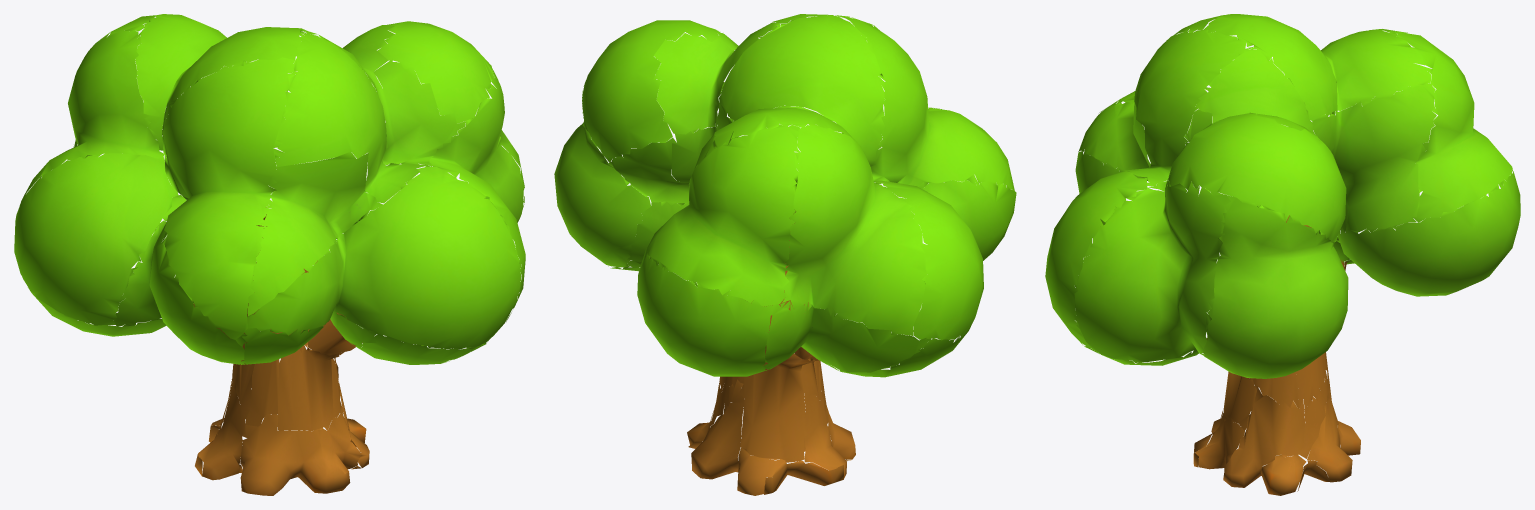
Rendered from baum_gruen_2.glb.
The picture shows the model from 3 angles, left to right: view 1: azimuth 30°, elevation 25°; view 2: azimuth 150°, elevation 25°; view 3: azimuth 270°, elevation 25°; orthographic projection. The views are drawn at different scales.
Parts seen in each view (by area): view 1: tripo_node_cad496b0-2a80-4168-8aae-92294c7d5e97; view 2: tripo_node_cad496b0-2a80-4168-8aae-92294c7d5e97; view 3: tripo_node_cad496b0-2a80-4168-8aae-92294c7d5e97.
Boxes of the visible parts, x1,y1,x2,y2 form: tripo_node_cad496b0-2a80-4168-8aae-92294c7d5e97: (14,14,525,495); tripo_node_cad496b0-2a80-4168-8aae-92294c7d5e97: (554,14,1016,495); tripo_node_cad496b0-2a80-4168-8aae-92294c7d5e97: (1045,14,1520,495).
Bounding box in the file's own units: 1 × 0.947 × 0.9589.
1 material, 1 textured.
